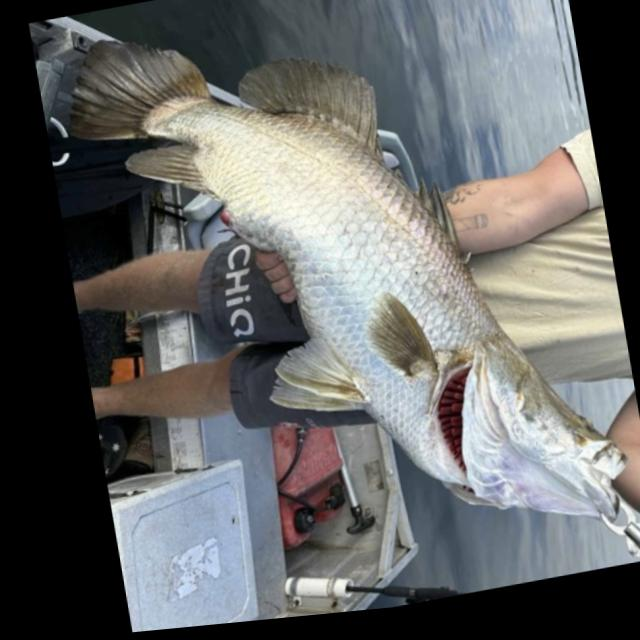Seabass: (46, 0, 640, 610)
